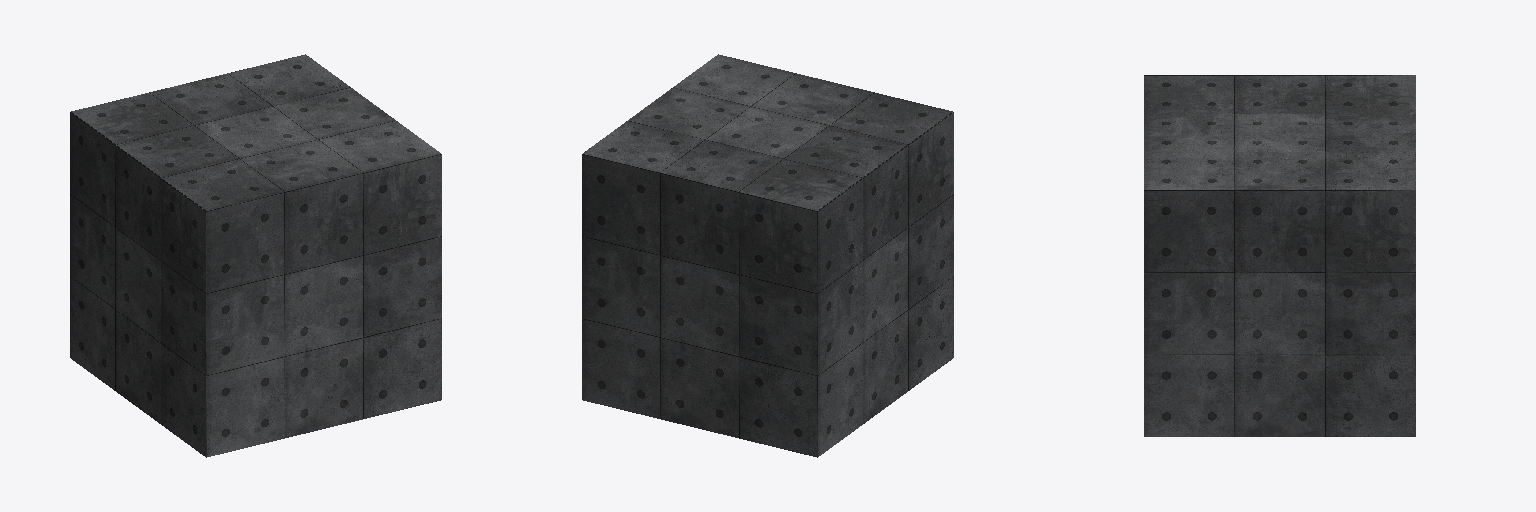
3 views of the same model, side by side, from view 1: azimuth 30°, elevation 25°; view 2: azimuth 150°, elevation 25°; view 3: azimuth 270°, elevation 25° (orthographic).
Visible parts, largest first — view 1: Cube; view 2: Cube; view 3: Cube.
Boxes of the visible parts, x1,y1,x2,y2 form: Cube: [70, 54, 441, 457]; Cube: [582, 54, 953, 457]; Cube: [1144, 75, 1415, 436].
Bounding box in the file's own units: 2 × 2 × 2.
Materials: 1 (1 with a texture image).